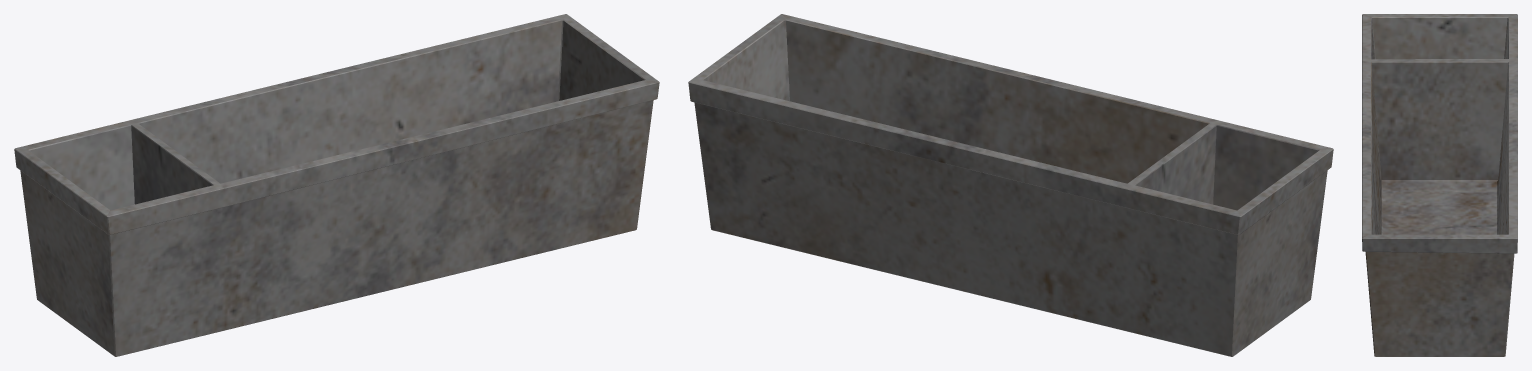
File: SM_FAR_CowTrough_01.fbx
3 renders of one model, left to right at view 1: azimuth 30°, elevation 25°; view 2: azimuth 150°, elevation 25°; view 3: azimuth 270°, elevation 25°, orthographic. The views are drawn at different scales.
Visible parts, largest first — view 1: SM_FAR_CowTrough_01.mo; view 2: SM_FAR_CowTrough_01.mo; view 3: SM_FAR_CowTrough_01.mo.
Boxes of the visible parts, x1,y1,x2,y2 form: SM_FAR_CowTrough_01.mo: (14,14,659,356); SM_FAR_CowTrough_01.mo: (688,14,1333,356); SM_FAR_CowTrough_01.mo: (1362,14,1517,356).
Bounding box in the file's own units: 220 × 57.14 × 64.43.
